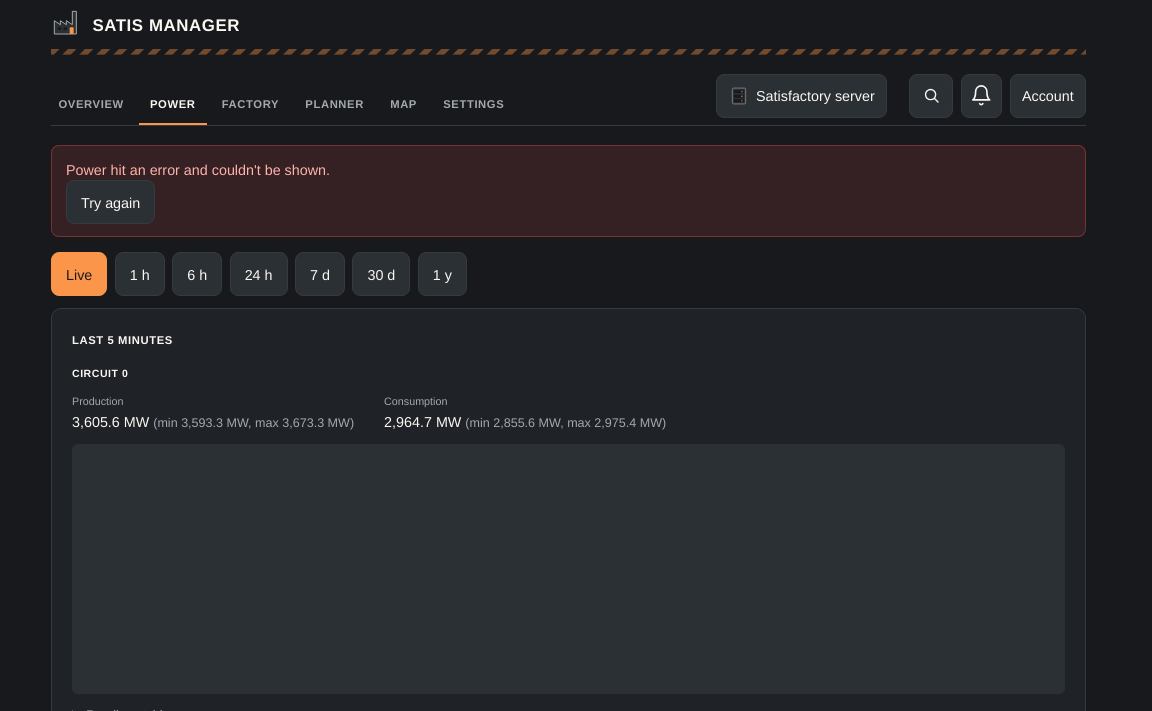
App with a crashing section › contains the crash to that section; the rest of the dashboard and the footer stay
Expected: the message named "Power error" shows "Power hit an error and couldn't be shown.", x1=66 y1=160 x2=330 y2=178
Expected: the button "Account" is shown, x1=1010 y1=74 x2=1086 y2=118
Click the link "Factory".
click(250, 102)  # box x1=222 y1=93 x2=279 y2=111
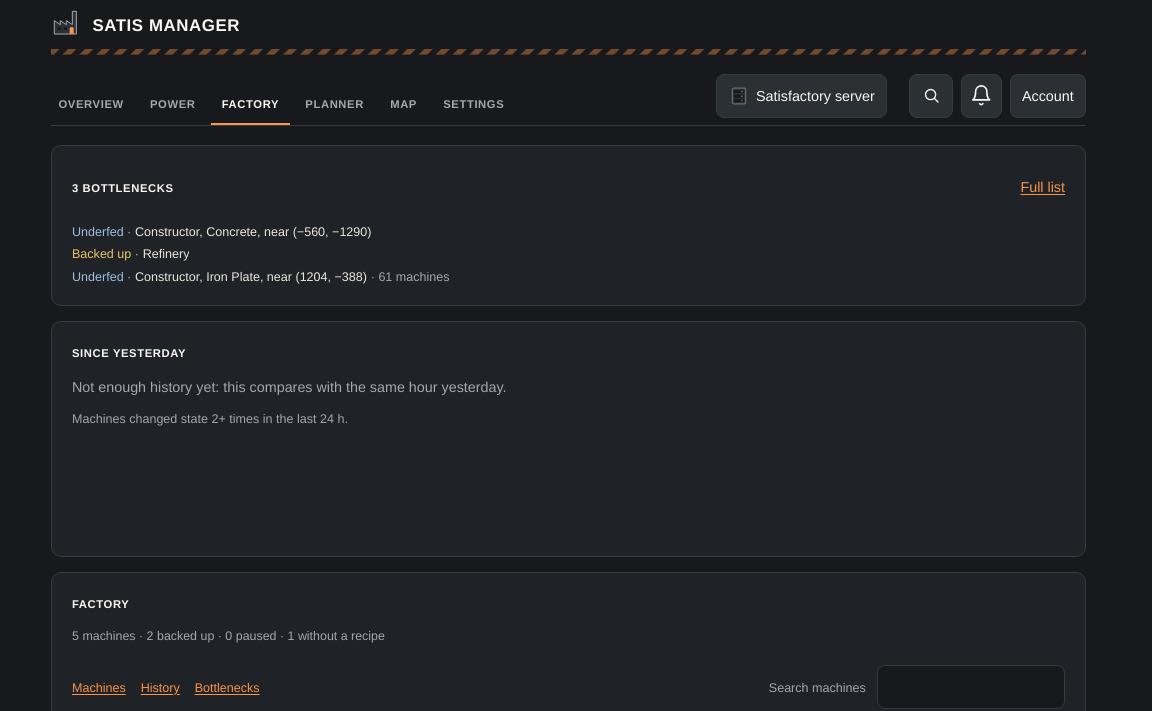
Click the link "Overview".
click(91, 102)  # box x1=58 y1=93 x2=124 y2=111
(page scrolled)
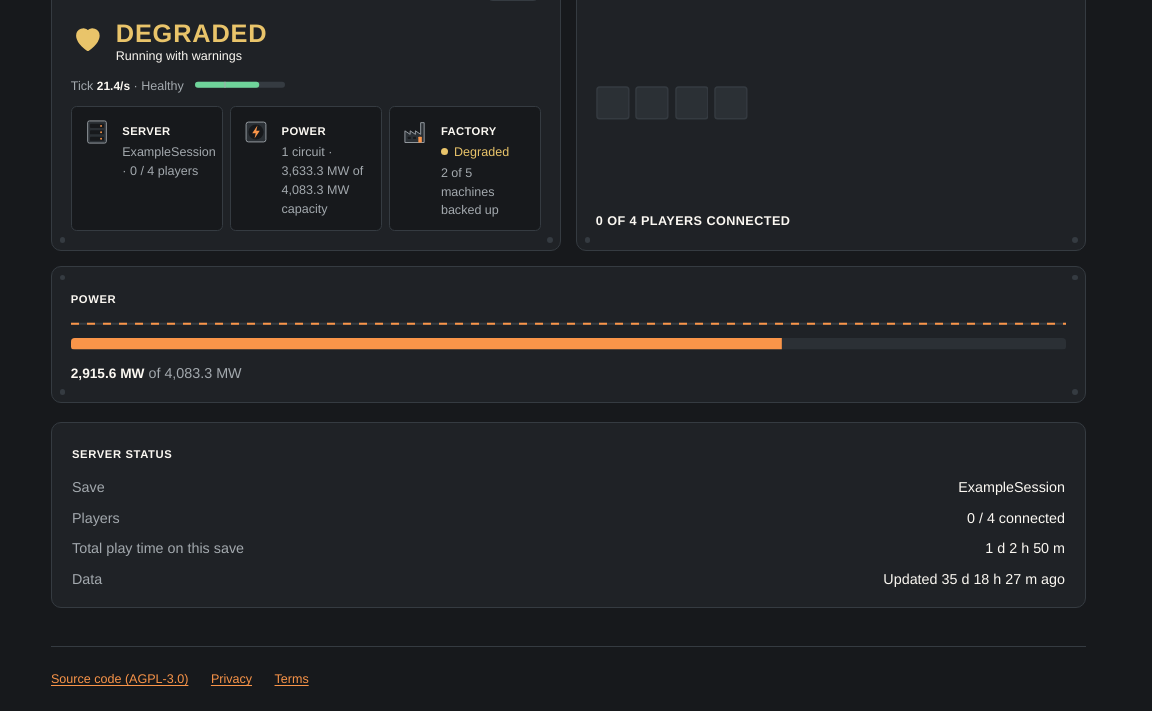
Expected: the link "Source code (AGPL-3.0)" is shown, x1=51 y1=670 x2=188 y2=686
Expected: the element "Server status" is shown, x1=51 y1=422 x2=1086 y2=608
